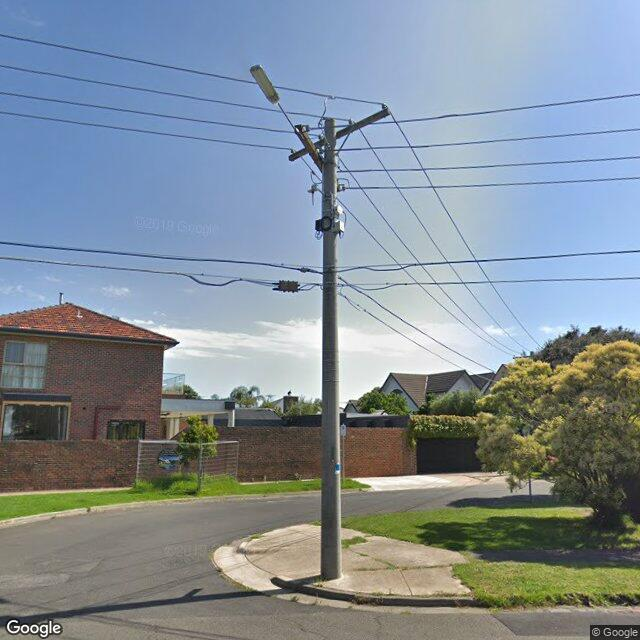concrete-pole: (321, 119, 342, 580)
crossarm: (289, 108, 391, 161), (295, 125, 323, 171)
streetlight: (250, 65, 295, 129)
